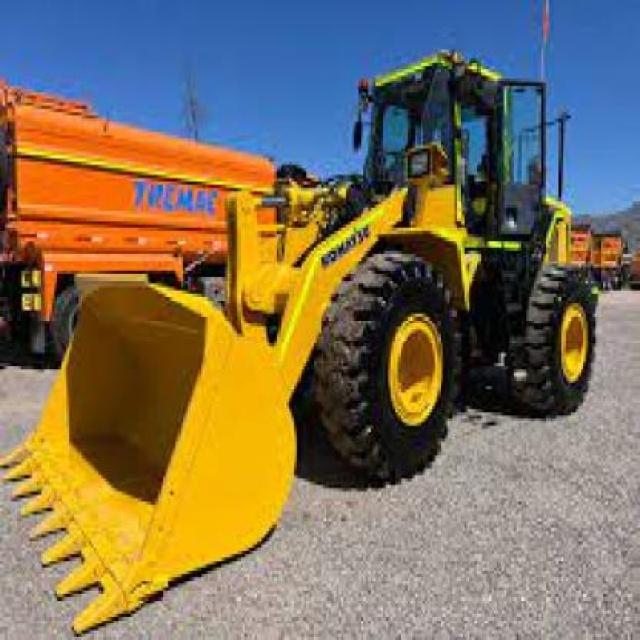buldozerpayloadergrader: (4, 24, 612, 640)
